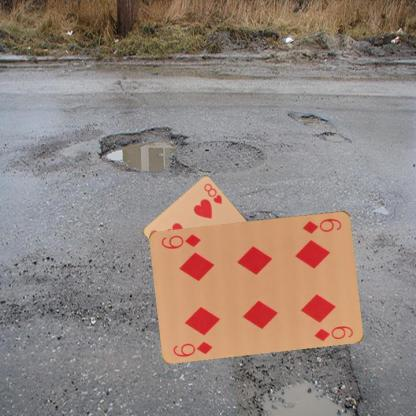6d: (170, 338, 214, 358), (300, 216, 343, 234)
